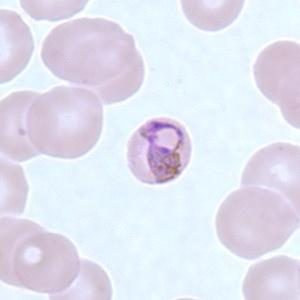Infected: (126, 115, 192, 187)
Uninfected: (214, 186, 300, 260), (42, 17, 135, 83), (27, 86, 104, 160), (67, 42, 144, 106), (241, 141, 300, 208), (0, 90, 51, 165), (18, 232, 79, 291), (0, 217, 49, 287), (253, 39, 300, 105), (242, 252, 300, 300), (50, 259, 112, 300), (0, 10, 33, 87), (181, 0, 244, 33)
